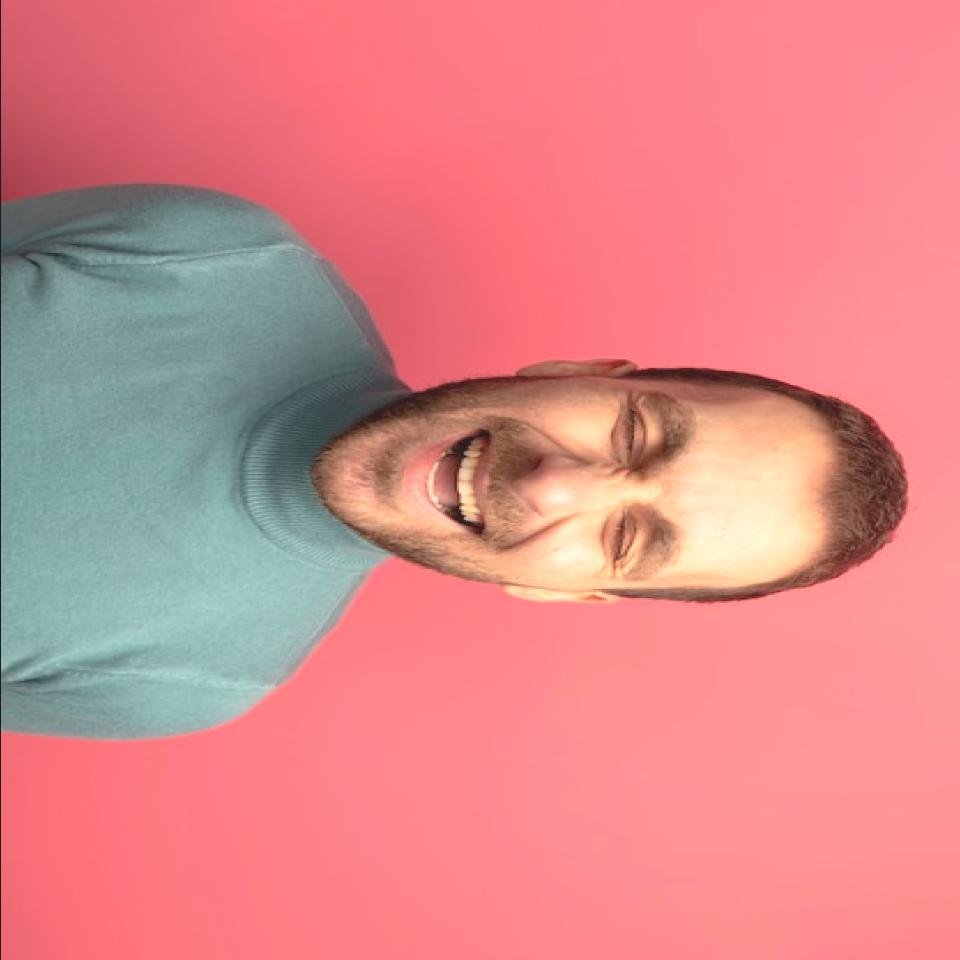Happiness: (316, 378, 798, 588)
